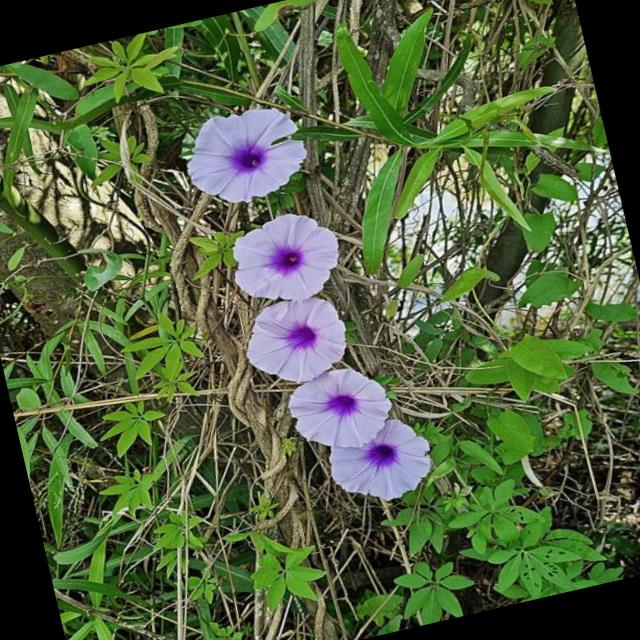ipomoea: (172, 81, 444, 531), (172, 95, 318, 216), (219, 202, 351, 316), (232, 286, 358, 396), (278, 356, 402, 462), (317, 410, 442, 515)
